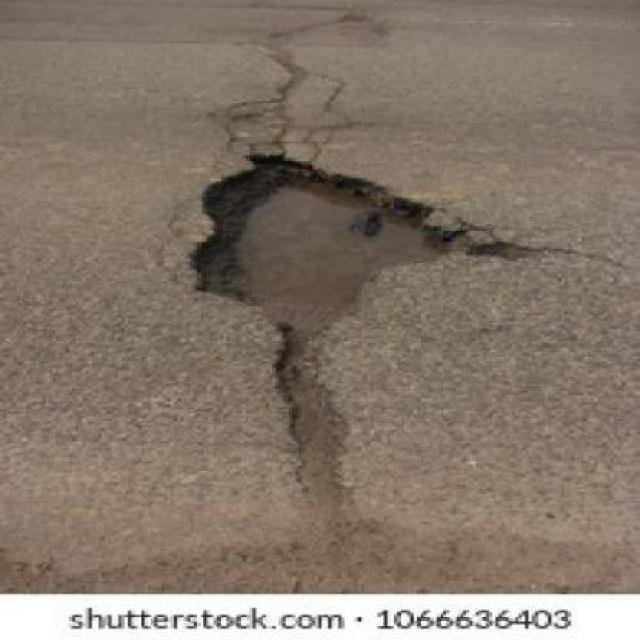pothole: (184, 151, 473, 334)
